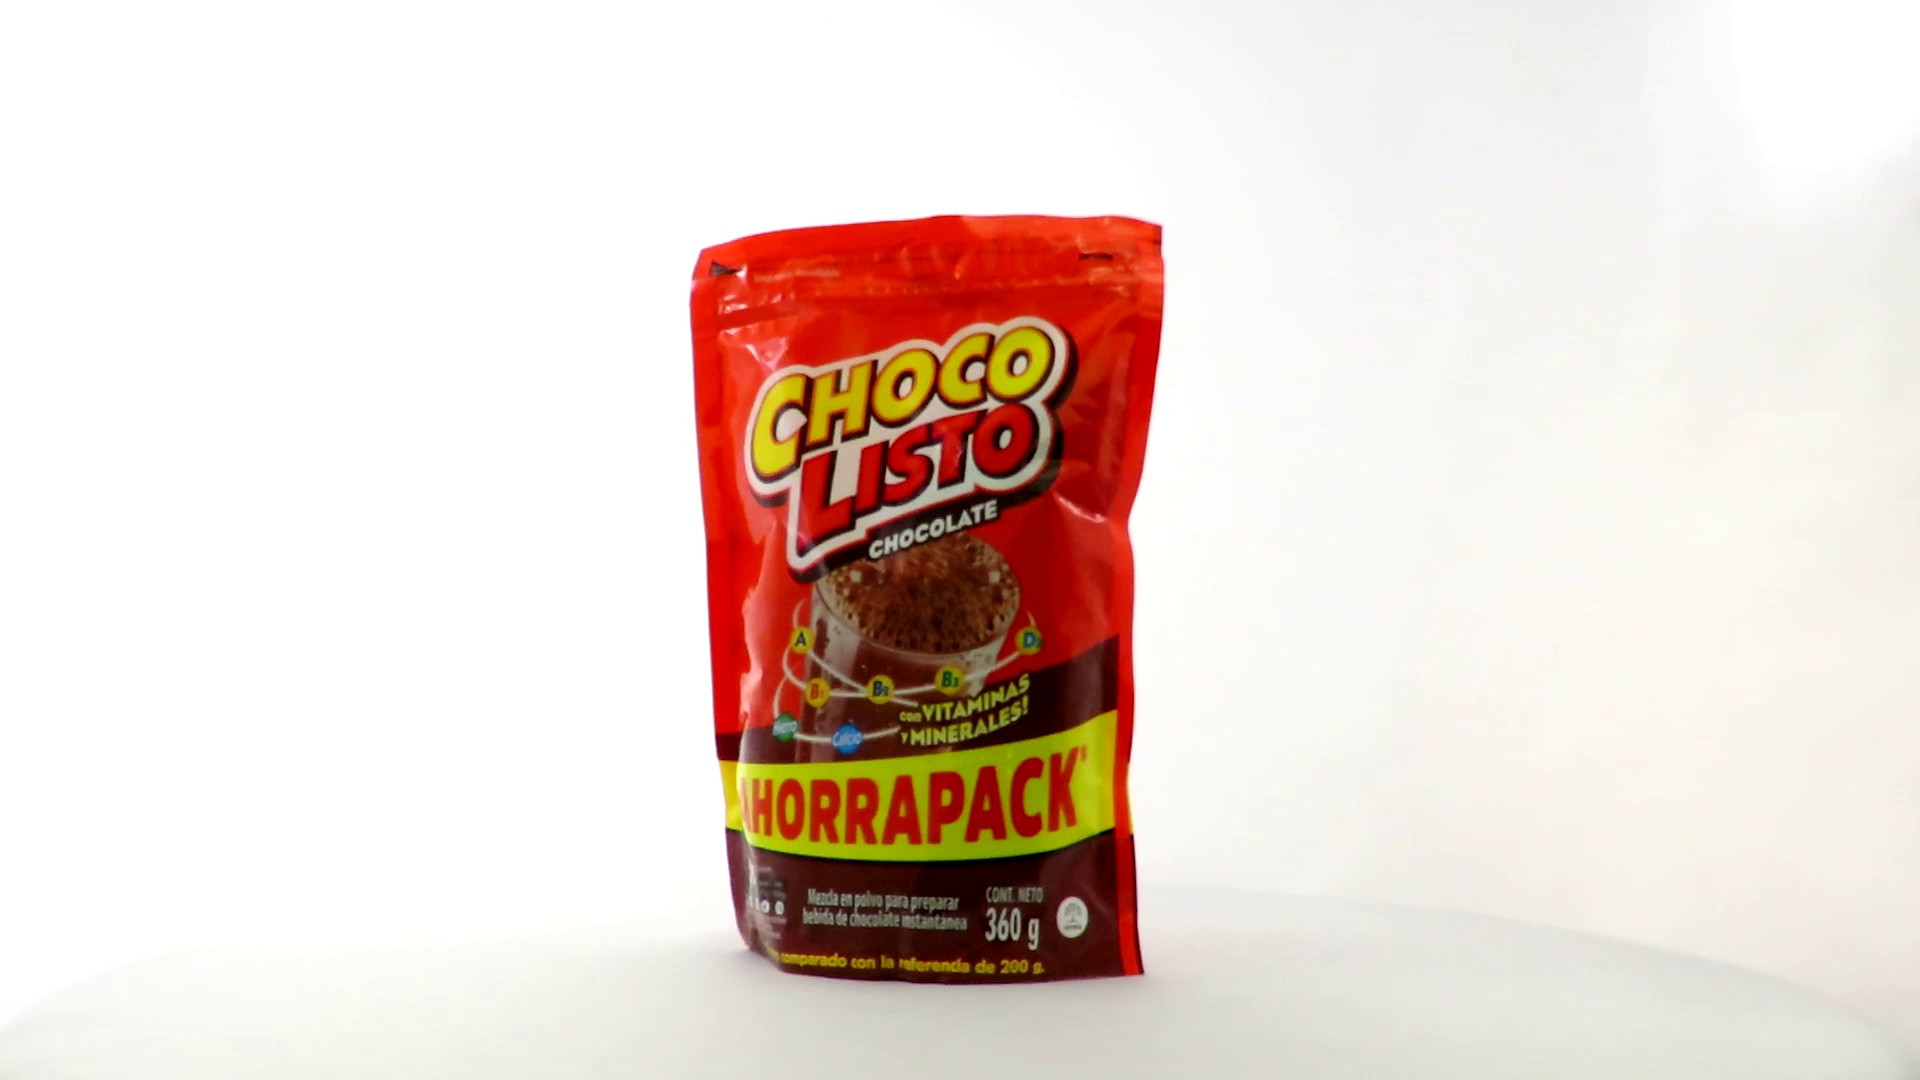COL0170103DYP36000: (684, 208, 1170, 992)
